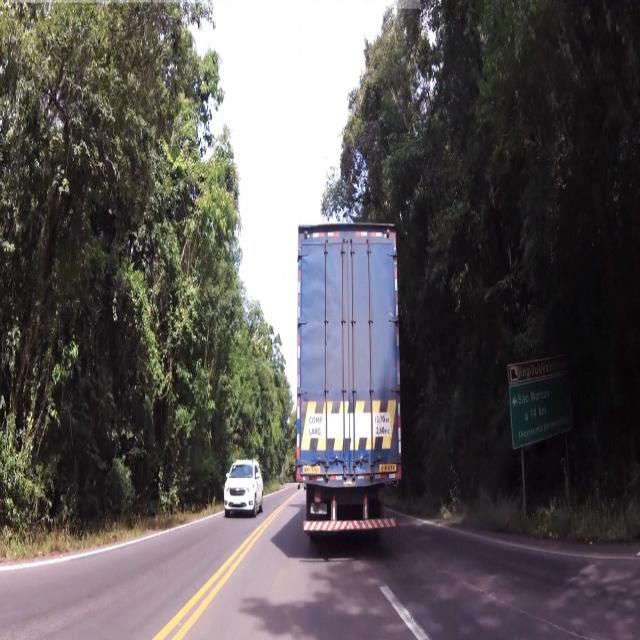A-1a: (513, 382, 580, 438)
